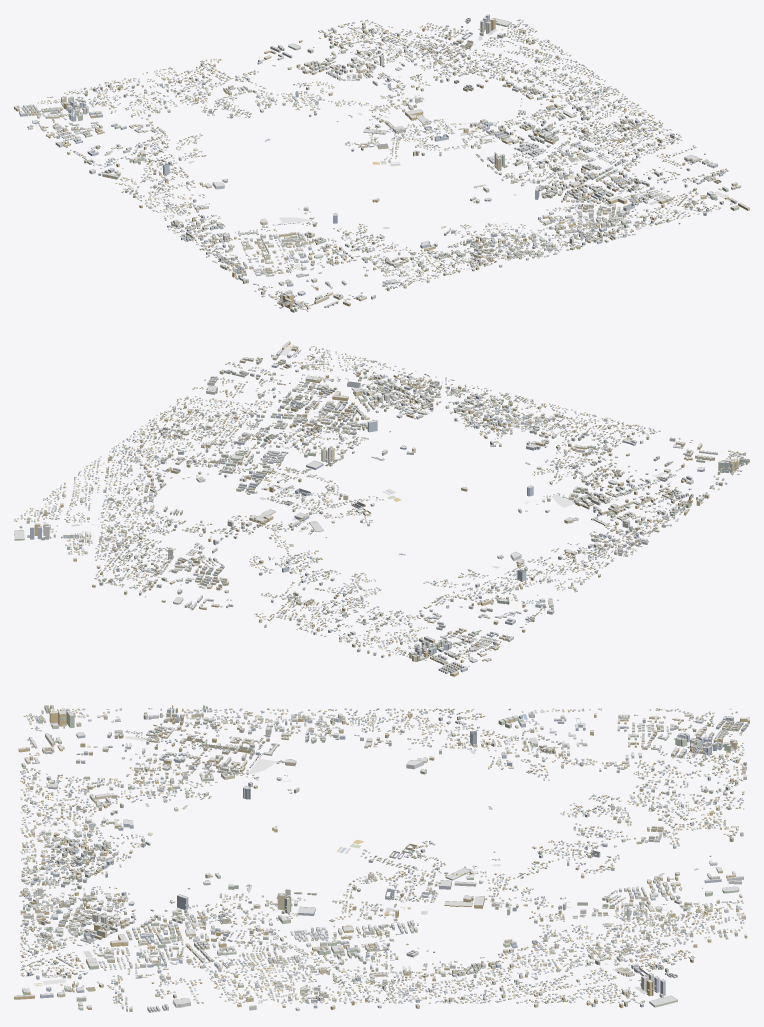
3 renders of one model, top to bottom at view 1: azimuth 30°, elevation 25°; view 2: azimuth 150°, elevation 25°; view 3: azimuth 270°, elevation 25°, orthographic. The views are drawn at different scales.
Visible parts, largest first — view 1: apartment, house, roof_flat, roof_zinc; view 2: apartment, house, roof_flat, roof_zinc; view 3: apartment, house, roof_flat, roof_zinc, parking.
Boxes of the visible parts, x1,y1,x2,y2 form: apartment: [14, 14, 749, 312]; house: [14, 19, 728, 309]; roof_flat: [14, 14, 749, 311]; roof_zinc: [15, 19, 733, 309]; apartment: [14, 341, 744, 676]; house: [14, 346, 749, 667]; roof_flat: [14, 341, 741, 674]; roof_zinc: [14, 345, 749, 666]; apartment: [14, 708, 749, 1012]; house: [19, 705, 744, 1003]; roof_flat: [14, 708, 749, 1010]; roof_zinc: [20, 705, 744, 1003]; parking: [41, 723, 722, 984].
Bounding box in the file's own units: 1.41e+08 × 4095093 × 1.47e+08.
